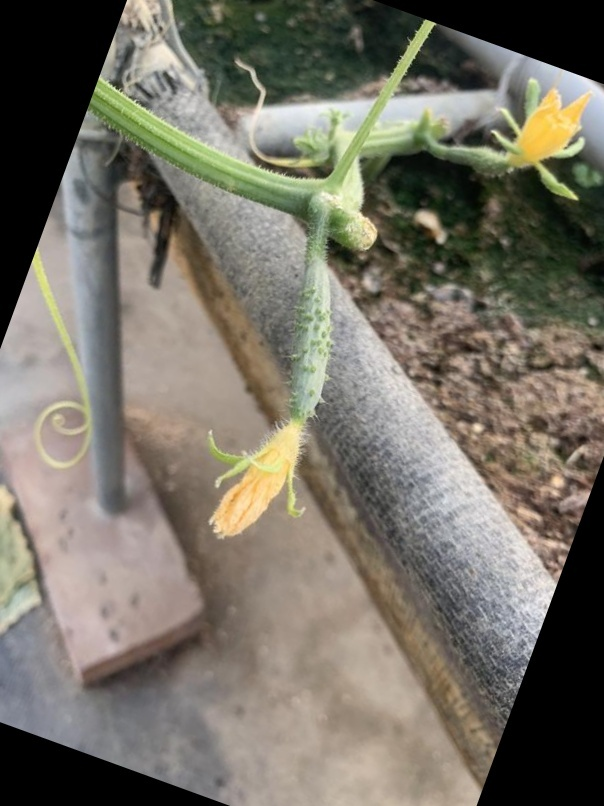bear: (197, 238, 363, 545), (413, 74, 590, 203)
